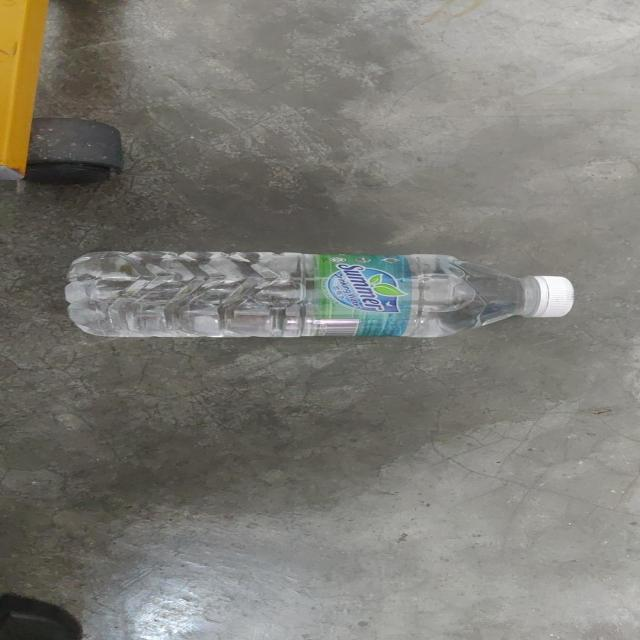plastic bottle: (67, 250, 539, 338)
plastic bottle cap: (527, 272, 580, 320)
